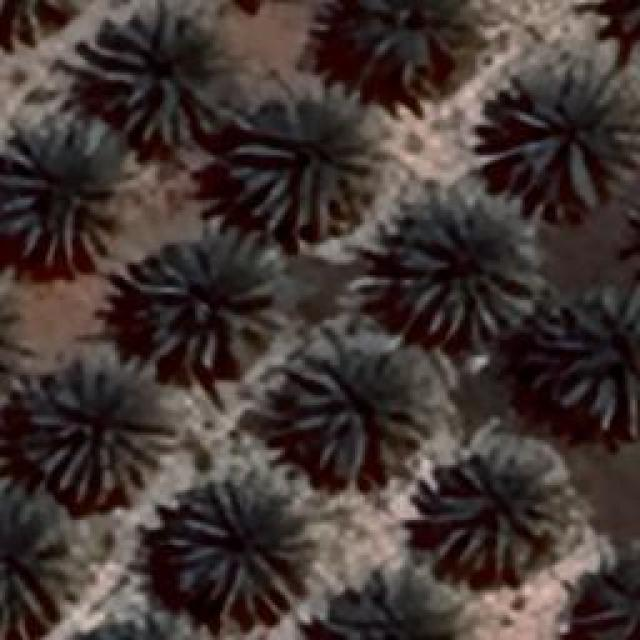PalmTree: (147, 73, 606, 598), (69, 83, 390, 604), (394, 188, 538, 348), (130, 225, 282, 373), (22, 354, 168, 508), (288, 325, 430, 480), (162, 472, 308, 620), (230, 95, 378, 240), (82, 10, 236, 148), (490, 70, 635, 215), (0, 120, 120, 270), (428, 450, 562, 580), (528, 285, 638, 433), (0, 480, 78, 640), (349, 0, 462, 62), (0, 274, 31, 410), (0, 0, 86, 42), (61, 614, 198, 640), (52, 624, 190, 640), (623, 177, 640, 296), (604, 0, 640, 54)
